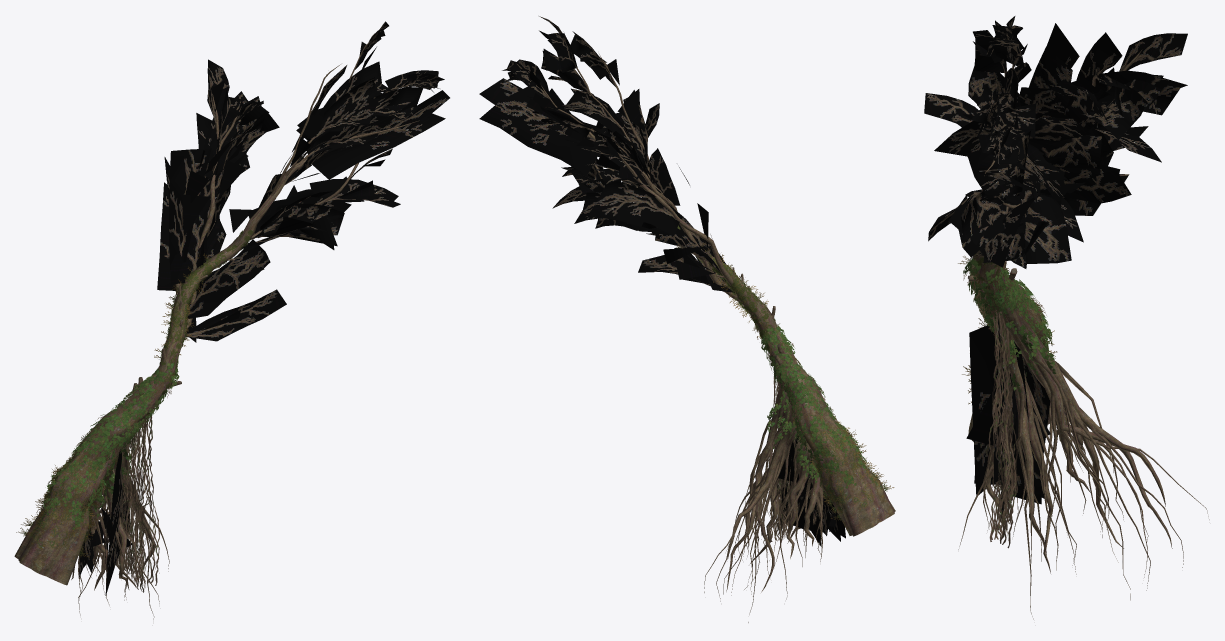
Rendered from Tree - Alien Tree 05 1-_C5zIbKt.glb.
3 renders of one model, left to right at view 1: azimuth 30°, elevation 25°; view 2: azimuth 150°, elevation 25°; view 3: azimuth 270°, elevation 25°, orthographic. The views are drawn at different scales.
Parts seen in each view (by area): view 1: Tree_05_1_L1(Clone), Tree_05_1_plants(Clone); view 2: Tree_05_1_L1(Clone), Tree_05_1_plants(Clone); view 3: Tree_05_1_L1(Clone), Tree_05_1_plants(Clone).
Part boxes in pixels (box(x1,y1,x2,y2)): Tree_05_1_L1(Clone): box(14, 21, 449, 619); Tree_05_1_plants(Clone): box(16, 230, 253, 557); Tree_05_1_L1(Clone): box(479, 16, 895, 622); Tree_05_1_plants(Clone): box(676, 225, 894, 520); Tree_05_1_L1(Clone): box(924, 16, 1209, 619); Tree_05_1_plants(Clone): box(958, 253, 1057, 404).
Bounding box in the file's own units: 32.27 × 39.96 × 13.77.
5 materials, 5 textured.
